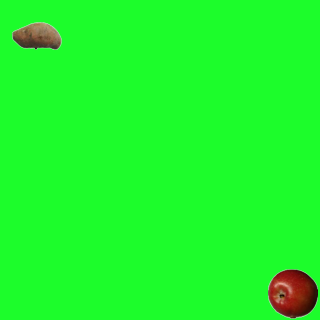Apple Braeburn: (267, 268, 317, 318)
Potato Sweet: (11, 10, 61, 60)
